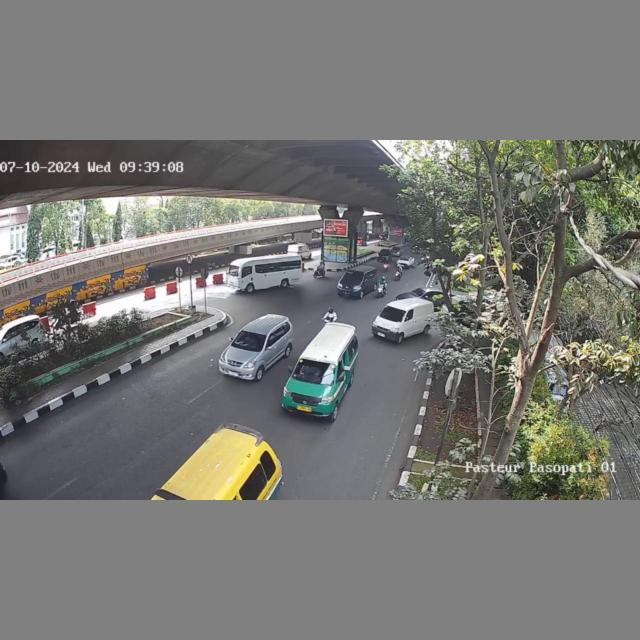windshield: (294, 358, 337, 384), (230, 330, 268, 350), (377, 305, 407, 322), (342, 271, 365, 281)
